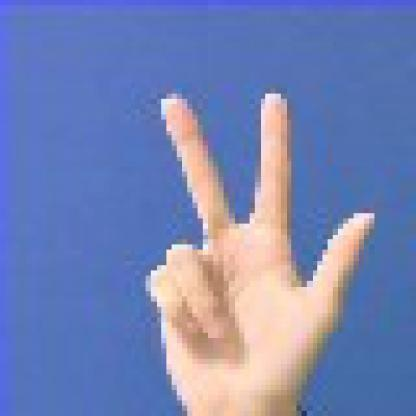eight: (94, 62, 390, 411)
